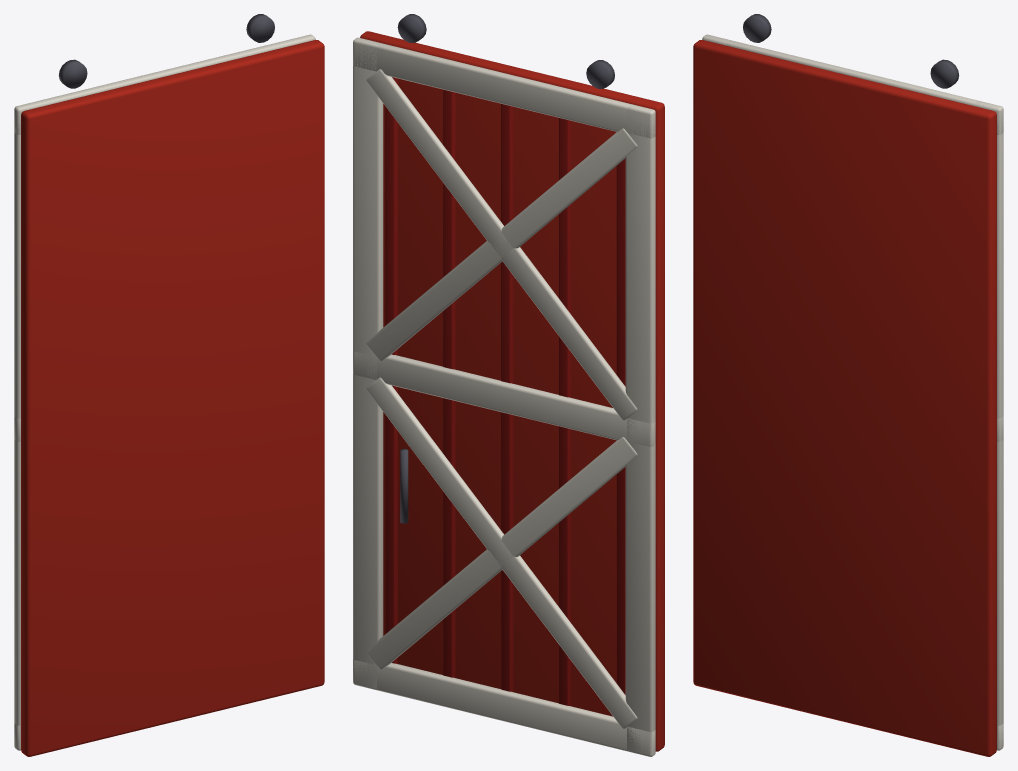
Rendered from barn_door.glb.
3 renders of one model, left to right at view 1: azimuth 30°, elevation 25°; view 2: azimuth 150°, elevation 25°; view 3: azimuth 330°, elevation 25°, orthographic.
Parts seen in each view (by area): view 1: barn_door; view 2: barn_door; view 3: barn_door.
Boxes of the visible parts, <box> form: barn_door: <box>14,14,324,756</box>; barn_door: <box>353,14,664,756</box>; barn_door: <box>693,14,1003,756</box>.
Bounding box in the file's own units: 1.75 × 3.79 × 0.2.
